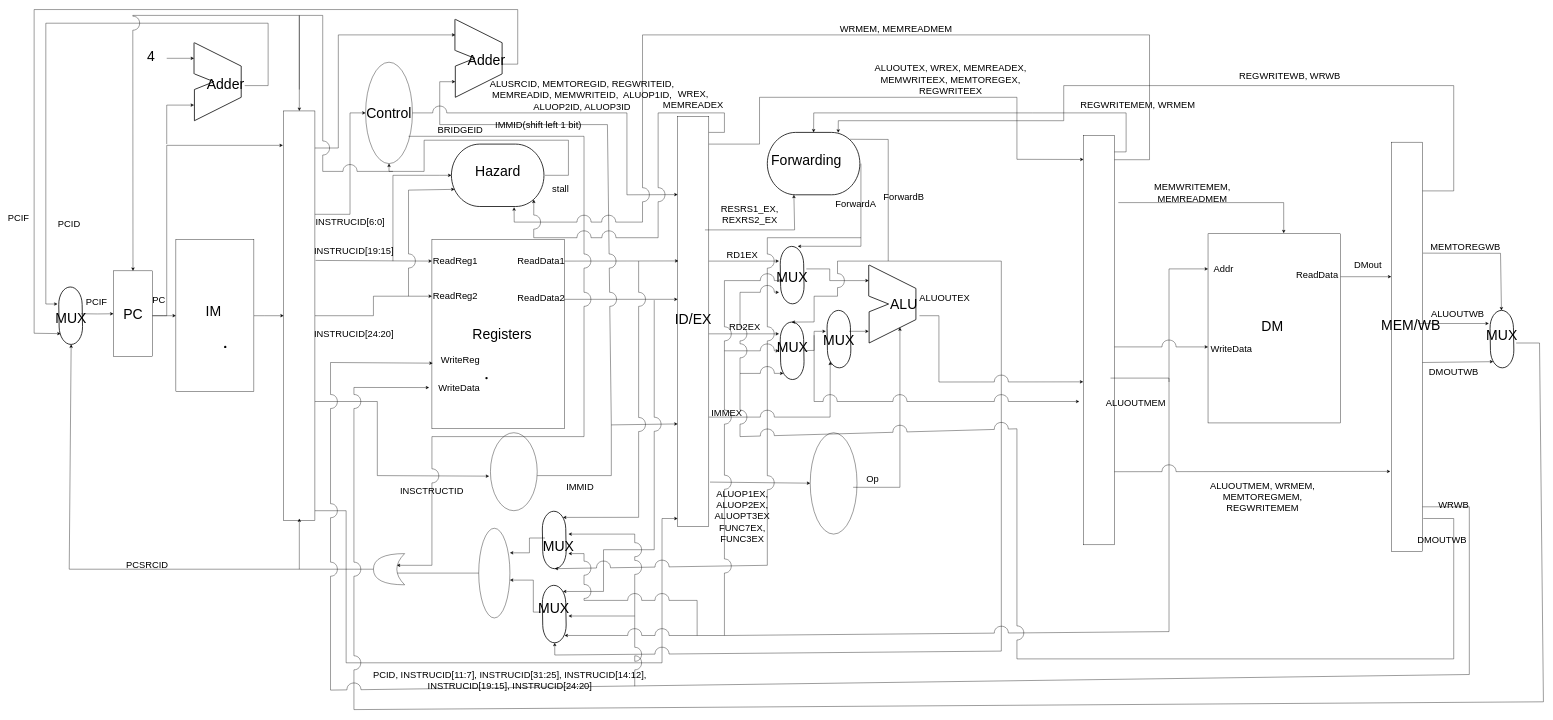
This 1553x720 diagram has some shape labels left out. The centre of each missing label's shape, as x and y in pixels:
ALUControl: (833,483)
Comparator: (494,573)
EX/MEM: (1098,340)
IF/ID: (299,315)
ImmGen: (513,471)
OR: (389,569)
